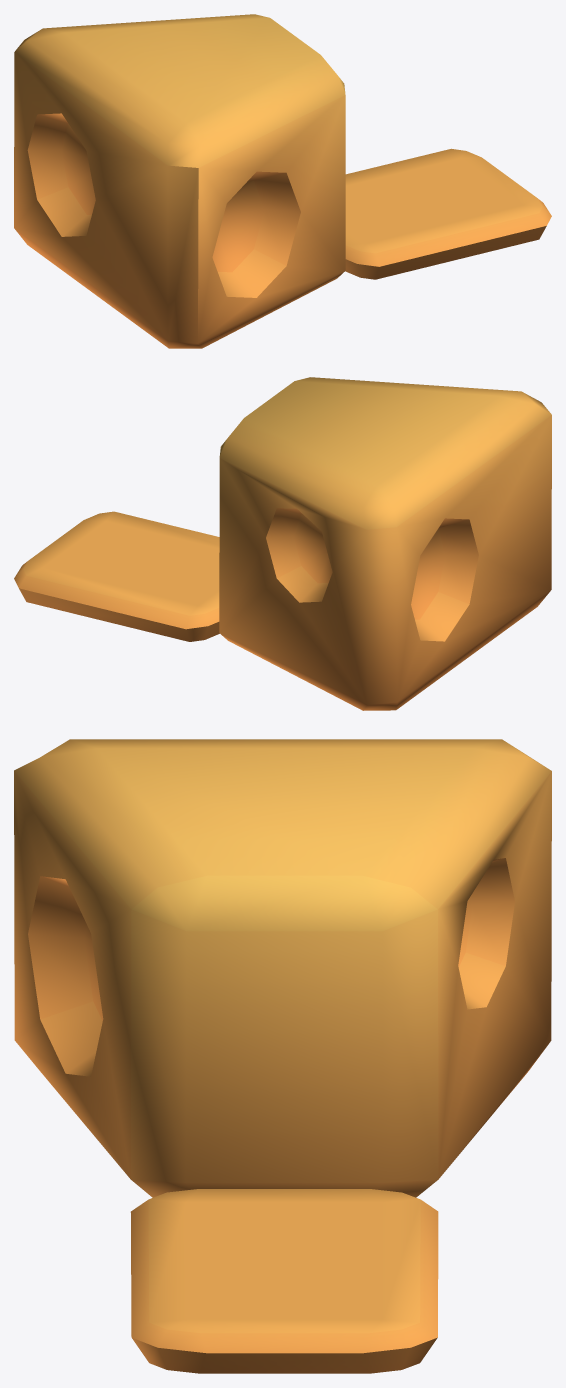
File: kay-food_ingredient_cheese_chopped.glb
3 views of the same model, one above another, from view 1: azimuth 30°, elevation 25°; view 2: azimuth 150°, elevation 25°; view 3: azimuth 270°, elevation 25° (orthographic). The views are drawn at different scales.
Parts seen in each view (by area): view 1: food_ingredient_cheese_chopped; view 2: food_ingredient_cheese_chopped; view 3: food_ingredient_cheese_chopped.
Part boxes in pixels (x1,y1,x2,y2): food_ingredient_cheese_chopped: (14, 14, 551, 348); food_ingredient_cheese_chopped: (14, 377, 551, 710); food_ingredient_cheese_chopped: (14, 739, 551, 1373).
Bounding box in the file's own units: 0.22 × 0.1078 × 0.1556.
1 material, 1 textured.
